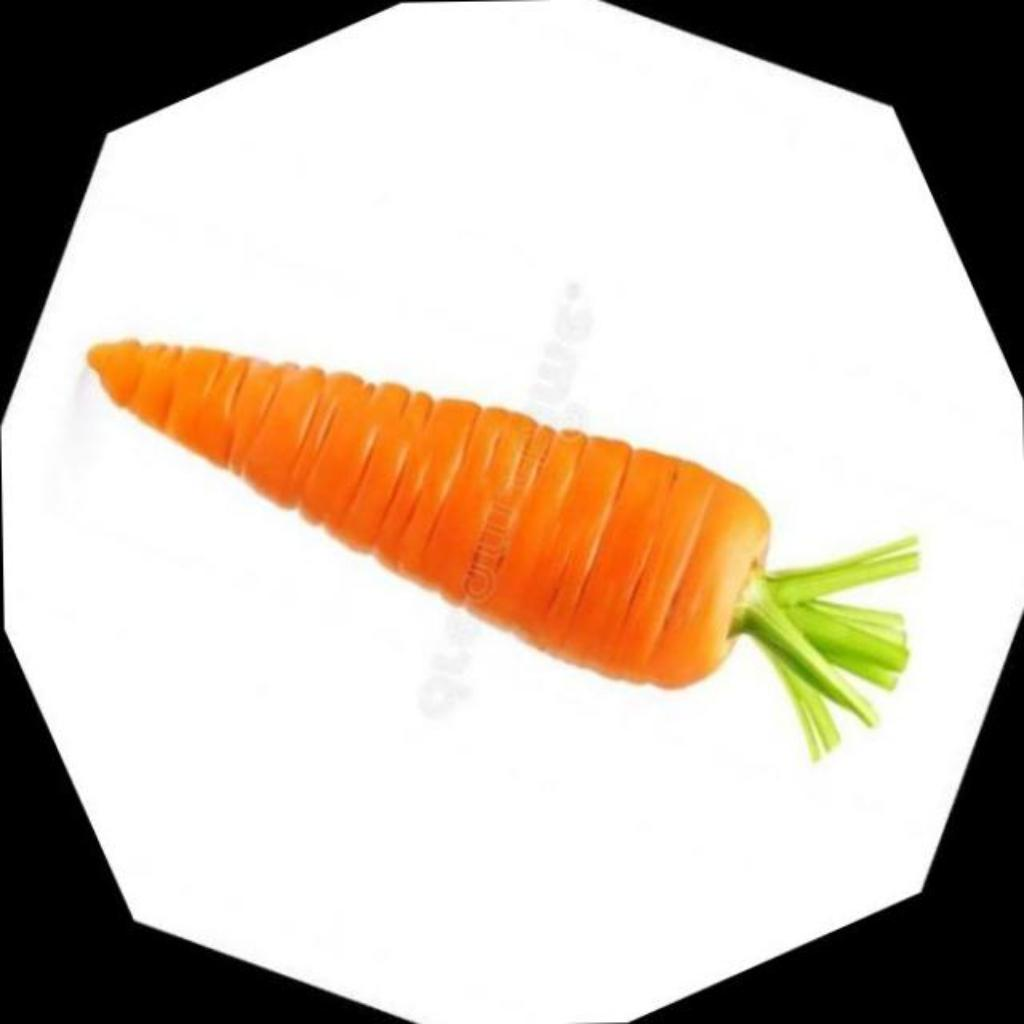carrot: (88, 342, 770, 685)
